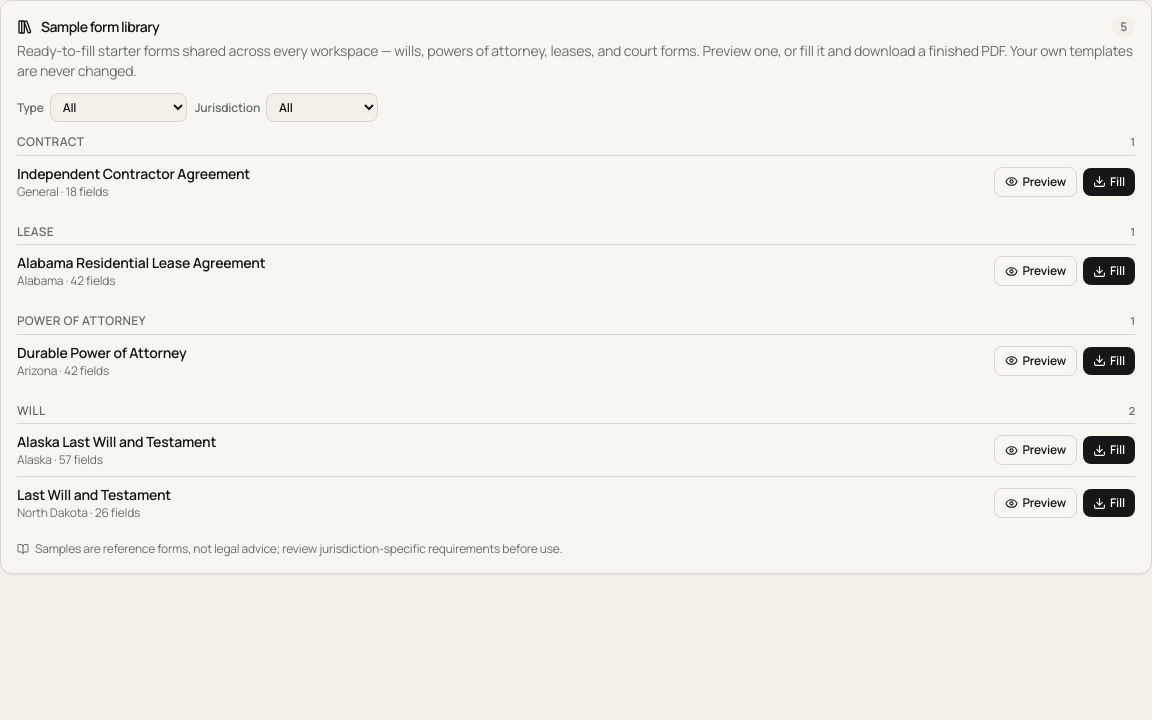
Test: SampleLibraryCard › opens the fill dialog and closes it again
The image size is (1152, 720).
Expected: the text "Durable Power of Attorney" is shown, [17, 342, 187, 362]
Click the button "Fill" in the row of "North Dakota": [1109, 503] box [1083, 489, 1135, 517]
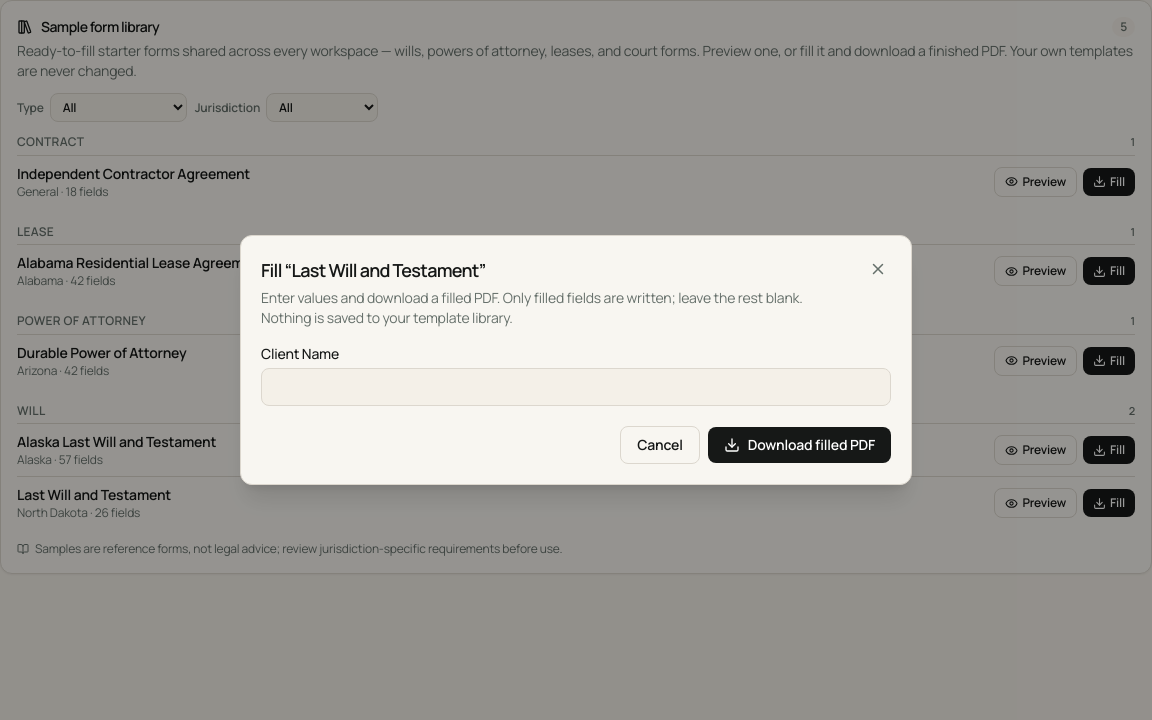
Result: the dialog is shown at [240, 235, 912, 485]
Result: the heading "Fill “Last Will and Testament”" is shown at [261, 258, 486, 282]
Click the button "Cancel": [660, 445] box [620, 426, 700, 464]
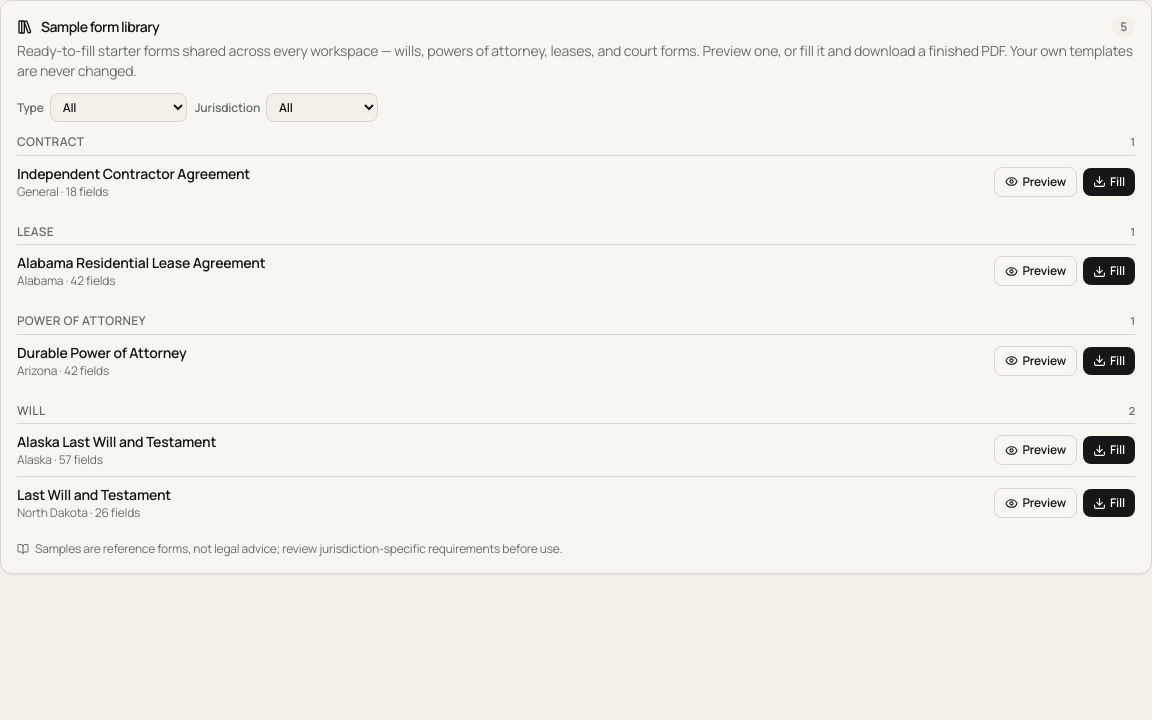
Result: the dialog is gone
